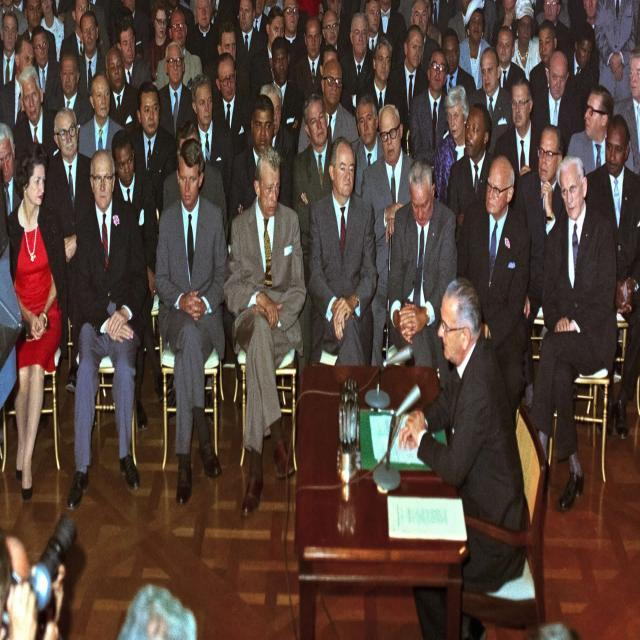body: (394, 272, 533, 640), (528, 154, 618, 511), (222, 146, 308, 519), (65, 145, 151, 513), (152, 135, 232, 510), (4, 140, 70, 508), (454, 153, 534, 422), (277, 0, 639, 57), (584, 111, 640, 442), (387, 155, 459, 392), (306, 133, 378, 368), (42, 108, 98, 398), (361, 104, 419, 368), (518, 121, 567, 418), (111, 128, 157, 433), (292, 91, 337, 378), (226, 92, 294, 259), (0, 0, 278, 36), (161, 119, 228, 248), (0, 528, 77, 639), (447, 101, 496, 255), (492, 75, 543, 212), (564, 82, 633, 178), (127, 80, 176, 215), (385, 23, 431, 160), (297, 56, 359, 156), (266, 35, 304, 185), (530, 48, 581, 158), (467, 44, 515, 159), (190, 72, 232, 197), (409, 46, 450, 171), (242, 79, 298, 167), (12, 64, 61, 164), (433, 84, 470, 209), (356, 37, 402, 133), (156, 39, 199, 139), (77, 71, 125, 158), (214, 52, 254, 155), (156, 8, 204, 90), (47, 48, 95, 129), (566, 56, 630, 116), (349, 94, 384, 197), (0, 32, 35, 134), (613, 45, 640, 177), (0, 121, 23, 259), (213, 20, 250, 104), (31, 24, 66, 111), (76, 9, 107, 107), (104, 45, 139, 129), (116, 19, 153, 92), (236, 35, 276, 92), (338, 56, 376, 112), (287, 56, 325, 110), (498, 57, 552, 91), (444, 56, 484, 97), (0, 34, 21, 90), (190, 35, 218, 73), (47, 35, 84, 63), (139, 36, 167, 68), (96, 36, 120, 56), (531, 90, 549, 116), (25, 35, 34, 48)
